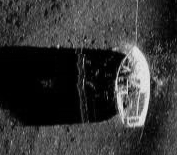ship: (113, 43, 152, 129)
